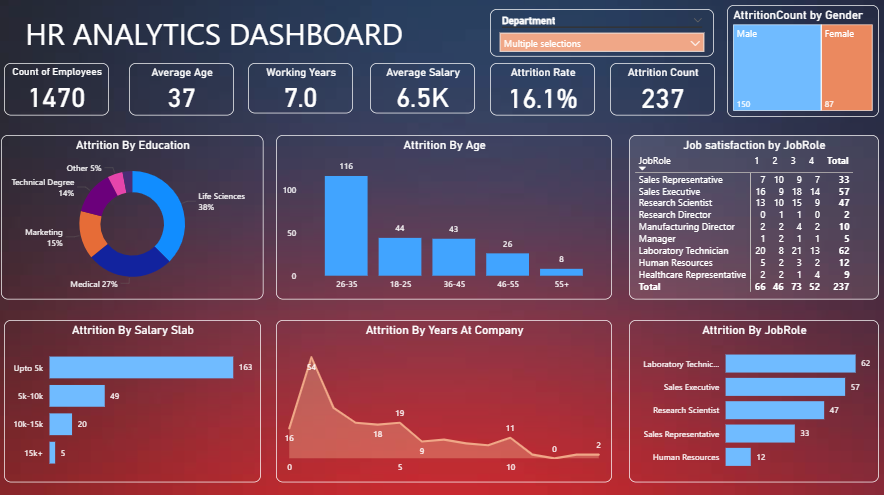

The page's visual inventory and layout, read from the dashboard file:
{"tool":"powerbi","page":{"name":"Page 1","canvas":[1280,720],"ordinal":0},"visuals":[{"type":"card","title":"Count of Employees","fields":{"Values":["Count(HR_Analytics.EmpID)"]},"box":[10,95,150,75],"z":0},{"type":"card","title":"Attrition Count","fields":{"Values":["Sum(HR_Analytics.AttritionCount)"]},"box":[875,95,150,75],"z":1000},{"type":"card","title":"Attrition Rate","fields":{"Values":["HR_Analytics.AttritionRate"]},"box":[705,95,150,75],"z":2000},{"type":"card","title":"Average Age","fields":{"Values":["Avg(HR_Analytics.Age)"]},"box":[188.3,95,150,75],"z":3000},{"type":"card","title":"Average Salary","fields":{"Values":["Avg(HR_Analytics.MonthlyIncome)"]},"box":[533,95,150,72],"z":4000},{"type":"card","title":"Working Years","fields":{"Values":["Avg(HR_Analytics.YearsAtCompany)"]},"box":[358,95,150,72],"z":5000},{"type":"donutChart","title":"Attrition By Education","fields":{"Category":["HR_Analytics.EducationField"],"Y":["Sum(HR_Analytics.AttritionCount)"]},"box":[5,198.3,375,235],"z":6000},{"type":"clusteredColumnChart","title":"Attrition By Age","fields":{"Y":["Sum(HR_Analytics.AttritionCount)"],"Category":["HR_Analytics.AgeGroup"]},"box":[398.3,198.3,480,235],"z":7000},{"type":"pivotTable","title":"Job satisfaction by JobRole","fields":{"Rows":["HR_Analytics.JobRole"],"Columns":["HR_Analytics.JobSatisfaction"],"Values":["Sum(HR_Analytics.AttritionCount)"]},"box":[903.3,198.3,356.7,235],"z":8000},{"type":"clusteredBarChart","title":"Attrition By Salary Slab","fields":{"Category":["HR_Analytics.SalarySlab"],"Y":["Sum(HR_Analytics.AttritionCount)"]},"box":[10,463.3,366.7,231.7],"z":9000},{"type":"areaChart","title":"Attrition By Years At Company","fields":{"Category":["HR_Analytics.YearsAtCompany"],"Y":["Sum(HR_Analytics.AttritionCount)"]},"box":[398.3,463.3,480,231.7],"z":10000},{"type":"clusteredBarChart","title":"Attrition By JobRole","fields":{"Category":["HR_Analytics.JobRole"],"Y":["Sum(HR_Analytics.AttritionCount)"]},"box":[903.3,463.3,356.7,231.7],"z":11000},{"type":"treemap","title":"AttritionCount by Gender","fields":{"Values":["Sum(HR_Analytics.AttritionCount)"],"Group":["HR_Analytics.Gender"]},"box":[1043.3,13.3,216.7,160],"z":12000},{"type":"slicer","fields":{"Values":["HR_Analytics.Department"]},"box":[705,18.3,320,68.3],"z":13000},{"type":"textbox","box":[35,18.3,573.3,76.7],"z":14000}]}

Visuals, with their boxes in screenshot pixels (x1, y1, x2, y2), scaled from the page's 1280x720 canvas onto the 884x495 screenshot:
"Count of Employees" card: rect(7, 65, 110, 117)
"Attrition Count" card: rect(604, 65, 708, 117)
"Attrition Rate" card: rect(487, 65, 590, 117)
"Average Age" card: rect(130, 65, 234, 117)
"Average Salary" card: rect(368, 65, 472, 115)
"Working Years" card: rect(247, 65, 351, 115)
"Attrition By Education" donutChart: rect(3, 136, 262, 298)
"Attrition By Age" clusteredColumnChart: rect(275, 136, 607, 298)
"Job satisfaction by JobRole" pivotTable: rect(624, 136, 870, 298)
"Attrition By Salary Slab" clusteredBarChart: rect(7, 319, 260, 478)
"Attrition By Years At Company" areaChart: rect(275, 319, 607, 478)
"Attrition By JobRole" clusteredBarChart: rect(624, 319, 870, 478)
"AttritionCount by Gender" treemap: rect(721, 9, 870, 119)
slicer - HR_Analytics.Department: rect(487, 13, 708, 60)
textbox: rect(24, 13, 420, 65)
